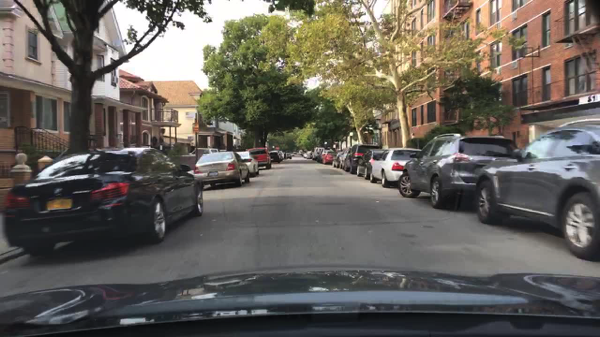car: (4, 146, 204, 257), (474, 117, 599, 261), (398, 132, 517, 209), (368, 146, 421, 186), (194, 152, 249, 186), (342, 144, 381, 173), (354, 150, 384, 179), (247, 146, 272, 169), (238, 152, 260, 176), (339, 146, 352, 168), (331, 150, 345, 167), (317, 148, 333, 162), (321, 152, 335, 166), (311, 146, 324, 161), (270, 149, 281, 163), (196, 147, 218, 154), (219, 148, 229, 154), (280, 150, 285, 160), (307, 149, 312, 158), (286, 153, 293, 159), (298, 149, 303, 156), (302, 152, 307, 159)
traffic sign: (192, 123, 199, 133)
